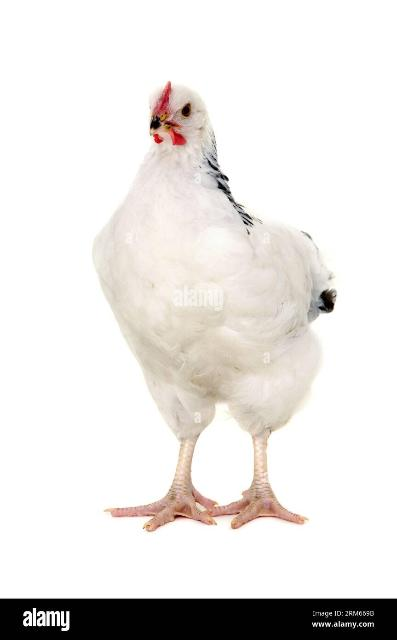Chicken: (86, 83, 339, 527)
